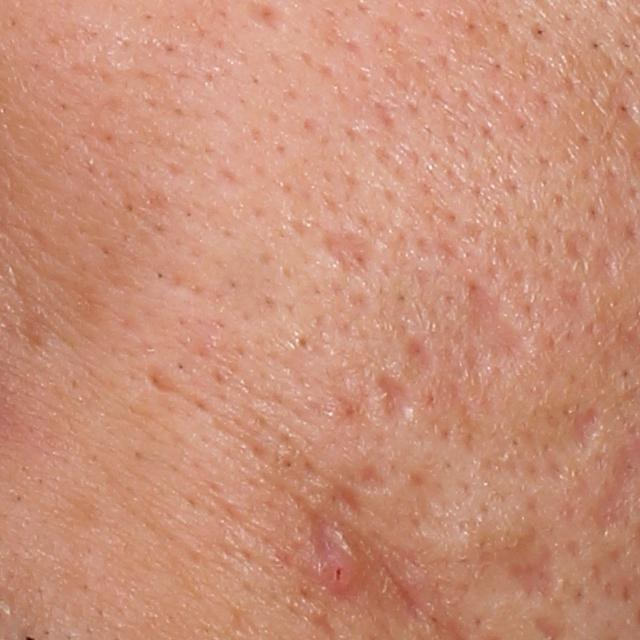atrophic_scar: (451, 269, 530, 383), (321, 229, 389, 296), (507, 540, 560, 603), (570, 393, 608, 461), (378, 370, 417, 436), (402, 328, 437, 381), (142, 366, 180, 394), (355, 463, 388, 495)
papule: (315, 551, 360, 601)
